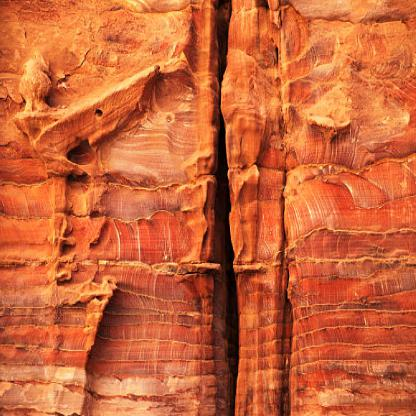Sedimentary_Sandstone: (0, 7, 218, 415), (225, 3, 415, 415)
